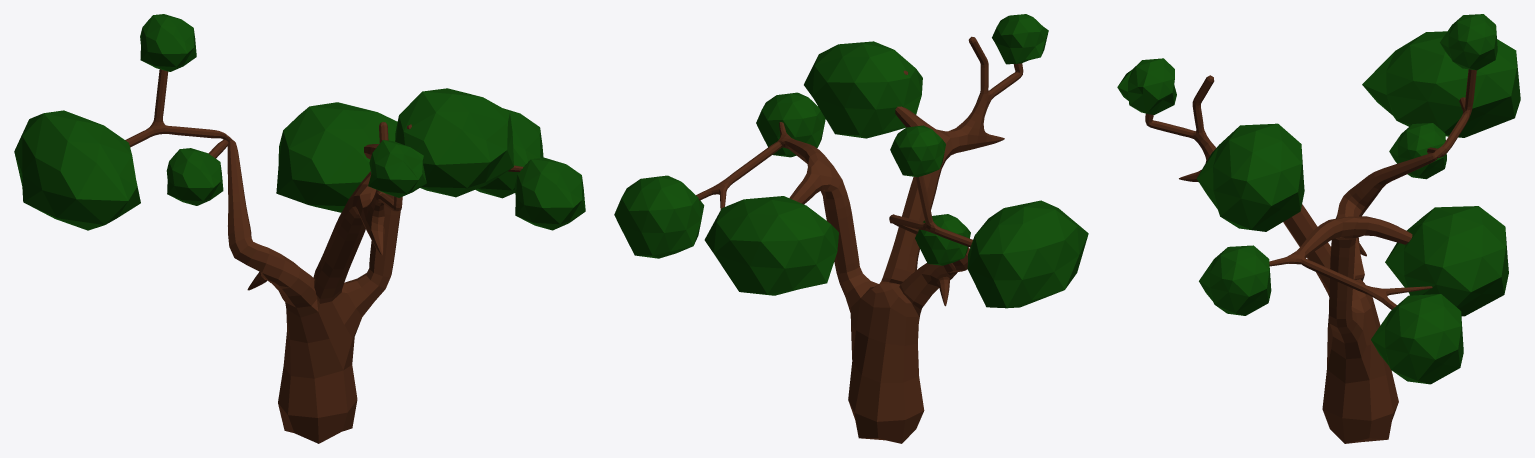
The model's file is Tree2.obj.
The picture shows the model from 3 angles, left to right: view 1: azimuth 30°, elevation 25°; view 2: azimuth 150°, elevation 25°; view 3: azimuth 270°, elevation 25°; orthographic projection. The views are drawn at different scales.
Visible parts, largest first — view 1: Icosphere.007_Icosphere.017; view 2: Icosphere.007_Icosphere.017; view 3: Icosphere.007_Icosphere.017.
Boxes of the visible parts, bbox=[...] form: Icosphere.007_Icosphere.017: bbox=[14, 14, 585, 443]; Icosphere.007_Icosphere.017: bbox=[614, 14, 1088, 443]; Icosphere.007_Icosphere.017: bbox=[1117, 14, 1520, 443].
Bounding box in the file's own units: 10.16 × 7.87 × 7.54.
